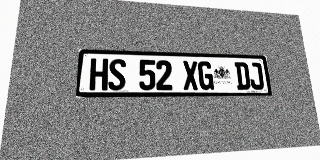2: (156, 60, 172, 90)
5: (139, 59, 156, 90)
D: (234, 62, 251, 90)
G: (197, 61, 214, 90)
H: (89, 58, 108, 90)
J: (248, 62, 264, 90)
S: (108, 59, 126, 90)
X: (182, 61, 199, 90)
